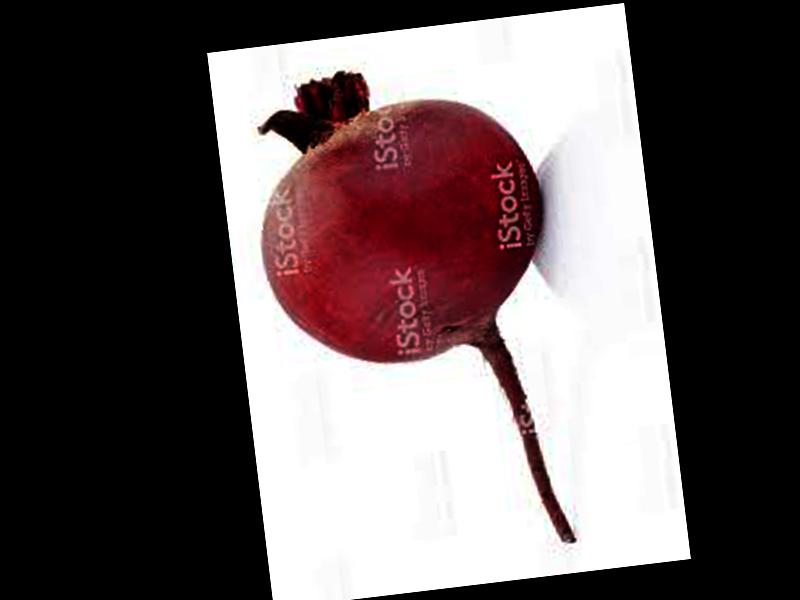Beet: (244, 51, 581, 572)
